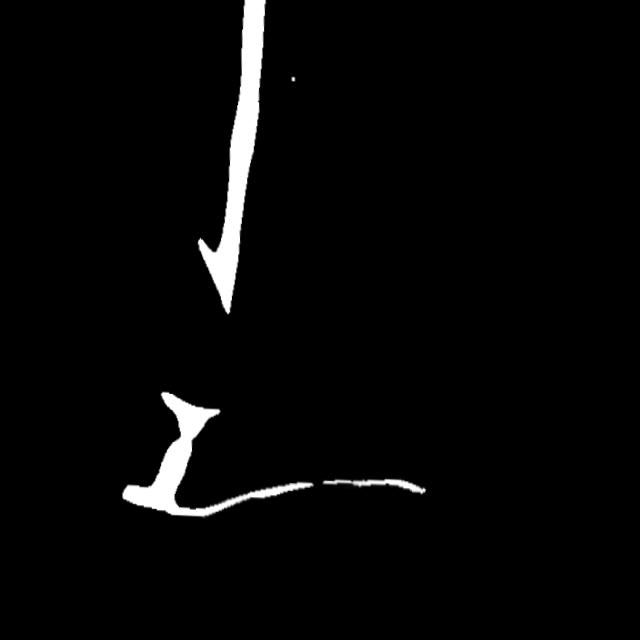sup: (301, 475, 322, 493)
